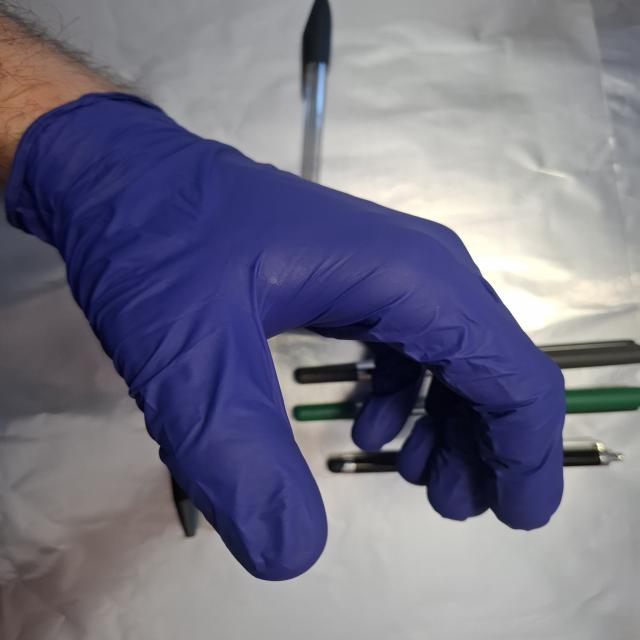glove_on: (17, 92, 573, 586)
